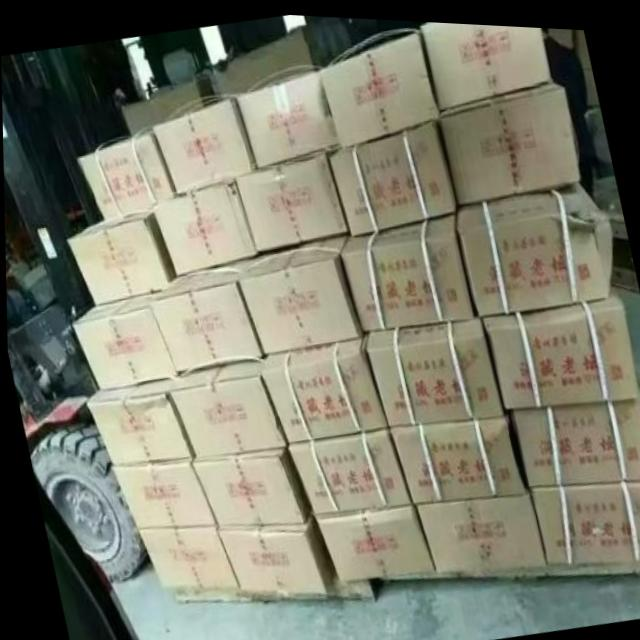box: (456, 179, 607, 310), (479, 290, 639, 406), (439, 75, 581, 202), (363, 310, 502, 422), (341, 208, 471, 326), (325, 117, 455, 231), (238, 233, 363, 351), (258, 330, 389, 441), (319, 28, 440, 140), (153, 254, 262, 370), (234, 144, 349, 251), (388, 409, 524, 499), (169, 353, 285, 455), (510, 390, 640, 481), (411, 479, 545, 565), (420, 18, 548, 105), (70, 290, 177, 393), (150, 94, 257, 196), (287, 424, 409, 512), (68, 204, 174, 303), (313, 497, 435, 583), (234, 66, 336, 167), (151, 180, 256, 277), (85, 371, 192, 462), (190, 441, 310, 522), (529, 472, 640, 558), (213, 513, 332, 592), (75, 129, 177, 217), (109, 454, 214, 525), (211, 25, 315, 96), (136, 524, 240, 589), (122, 72, 216, 133)
